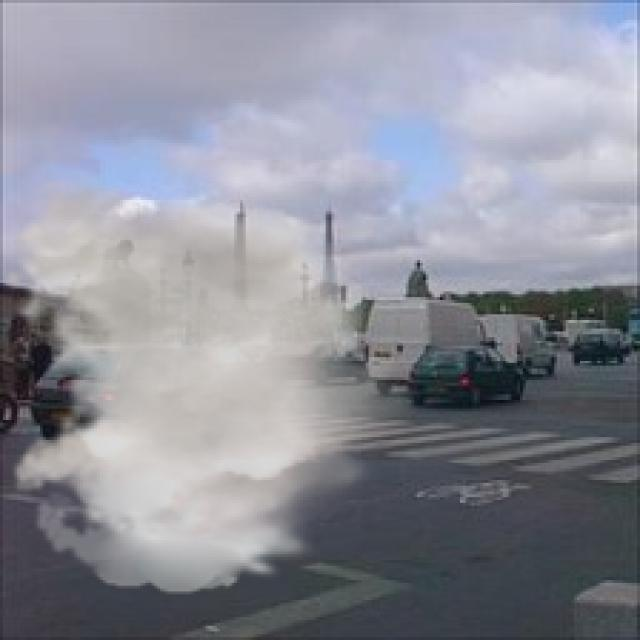smoke: (0, 186, 426, 594)
